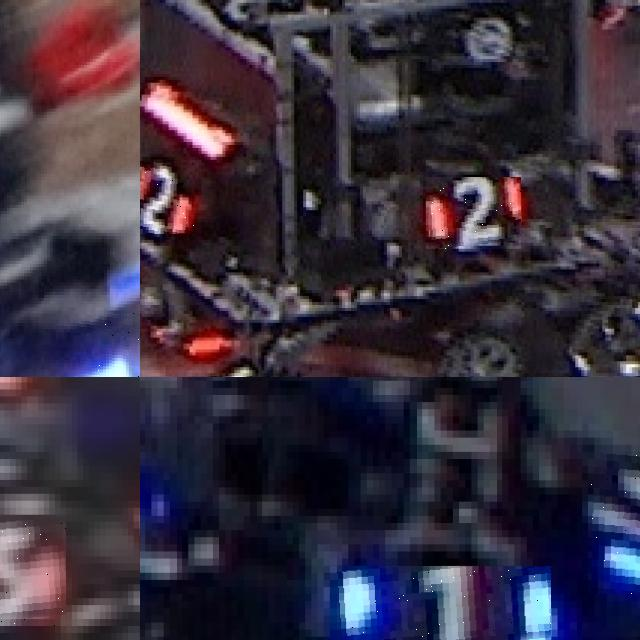B1: (329, 565, 551, 640), (588, 444, 640, 594)
B4: (72, 310, 140, 377)
R2: (426, 177, 521, 249), (140, 157, 195, 234)
R5: (0, 514, 66, 626)
